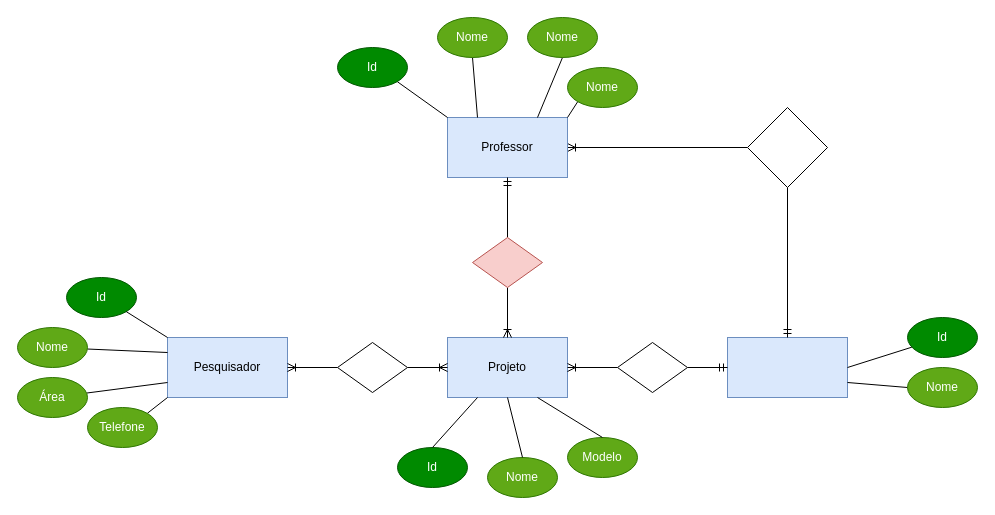
The diagram is 995 pixels wide and 515 high, and some of its shapes have lost their labels. Each missing label, with the centre of its shape:
Departamento: point 787,367
Orientar: point 507,262
Pertencer: point 652,367
Possui: point 787,147
Possuir: point 372,367
